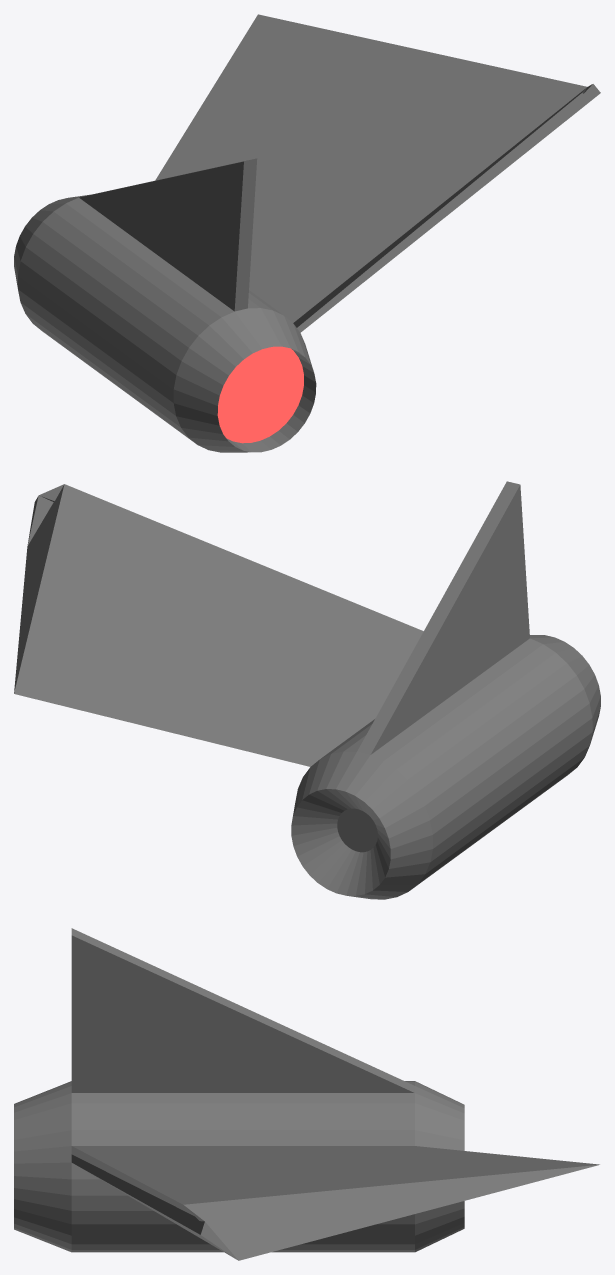
Rendered from BrokenShip-4.fbx.
3 views of the same model, one above another, from view 1: azimuth 30°, elevation 25°; view 2: azimuth 150°, elevation 25°; view 3: azimuth 270°, elevation 25° (orthographic). The views are drawn at different scales.
Parts seen in each view (by area): view 1: Cylinder.002; view 2: Cylinder.002; view 3: Cylinder.002.
Boxes of the visible parts, x1,y1,x2,y2 form: Cylinder.002: [14, 14, 600, 452]; Cylinder.002: [14, 481, 600, 899]; Cylinder.002: [14, 928, 599, 1260].
Bounding box in the file's own units: 3602 × 2043 × 3420.
